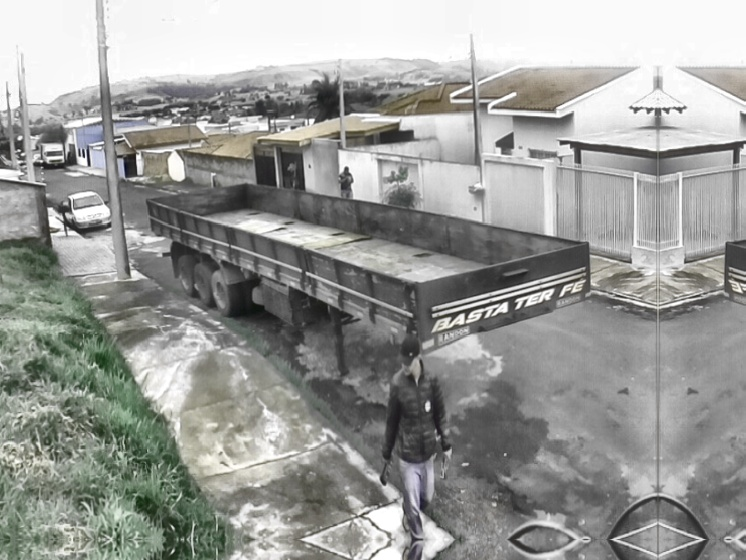person: (380, 335, 454, 560), (337, 165, 357, 201)
